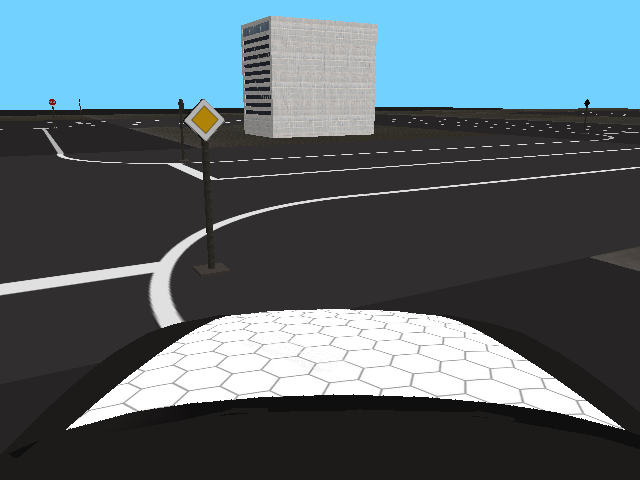priority: (181, 98, 225, 141)
